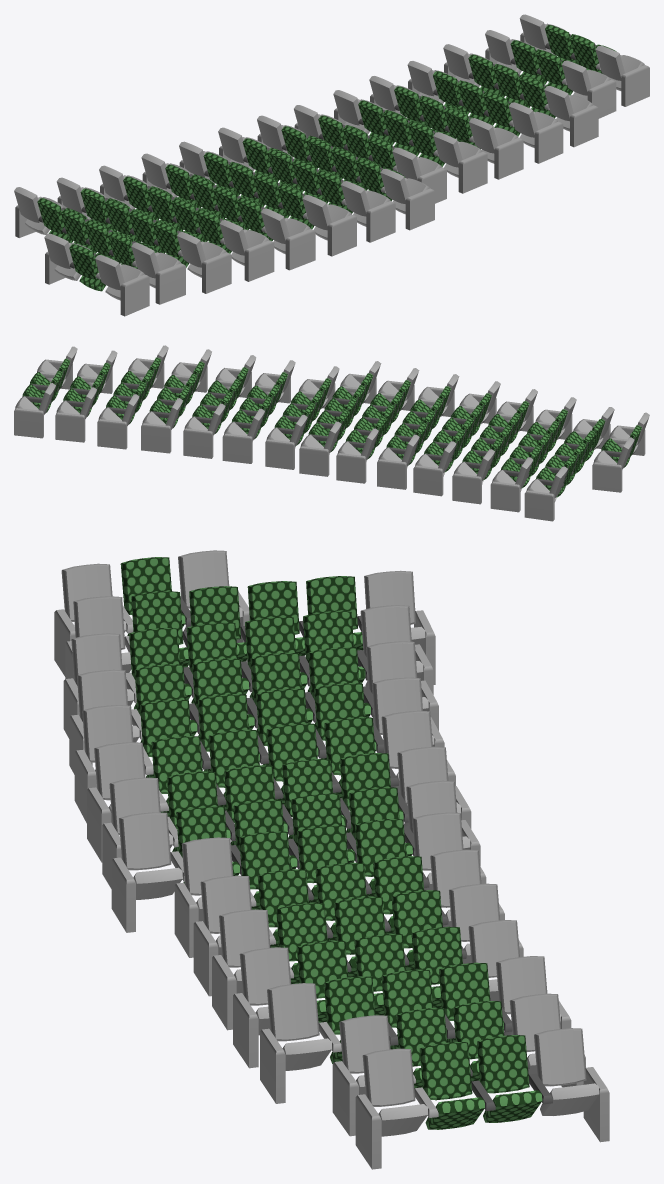
File: m_theater_chair_rightAisle_high_r.fbx
3 views of the same model, one above another, from view 1: azimuth 30°, elevation 25°; view 2: azimuth 150°, elevation 25°; view 3: azimuth 270°, elevation 25° (orthographic). The views are drawn at different scales.
Visible parts, largest first — view 1: polySurface1075; view 2: polySurface1075; view 3: polySurface1075.
Boxes of the visible parts, x1,y1,x2,y2 form: polySurface1075: (14, 14, 649, 316); polySurface1075: (14, 345, 649, 521); polySurface1075: (54, 550, 609, 1169).
Bounding box in the file's own units: 167 × 13 × 73.51.
